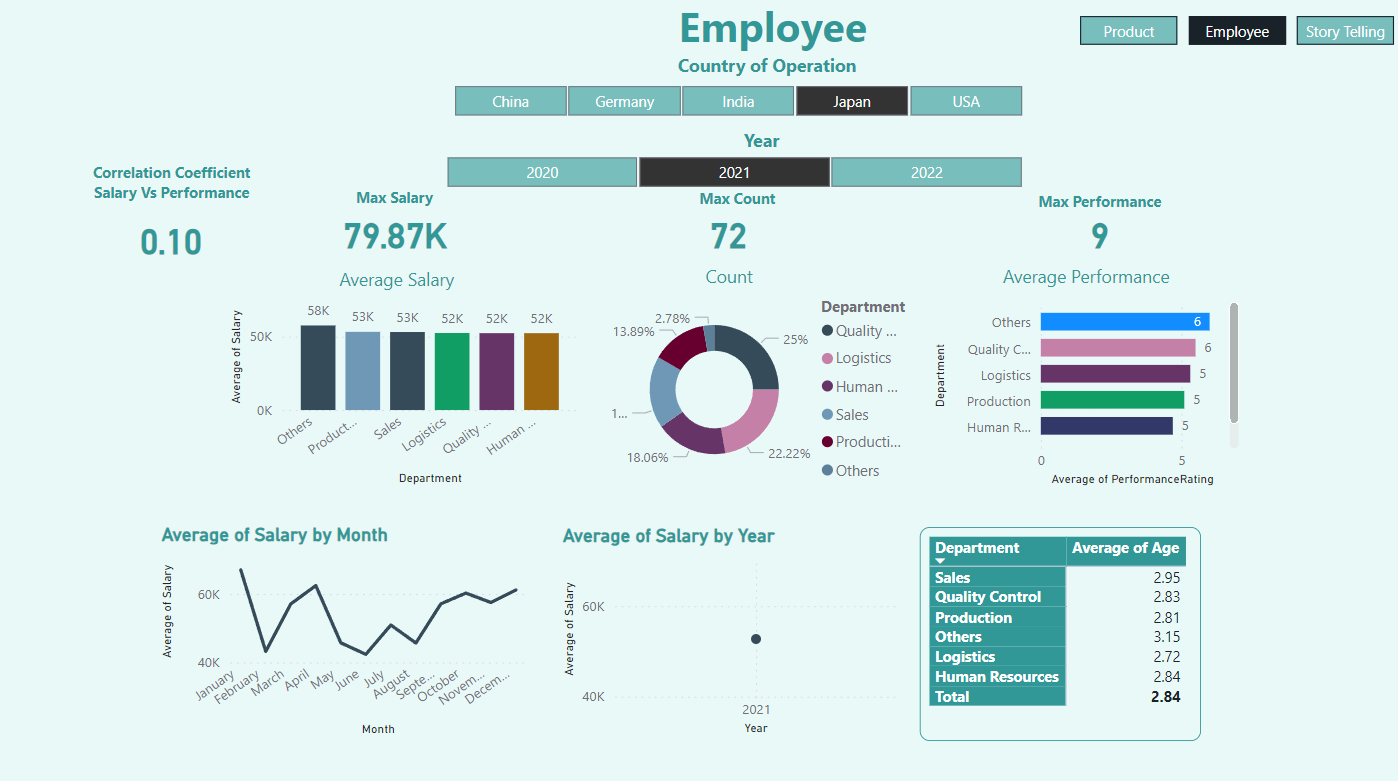

What the dashboard file says about the page in this screenshot:
{"tool":"powerbi","page":{"name":"Employee","canvas":[1280,720],"ordinal":1},"visuals":[{"type":"textbox","box":[606,117.6,191.1,38.4],"z":1000},{"type":"textbox","box":[868.1,241.4,253.4,36],"z":2000},{"type":"textbox","box":[575.2,241.4,193.3,36],"z":3000},{"type":"textbox","box":[275,242.6,193.3,36],"z":4000},{"type":"clusteredColumnChart","fields":{"Category":["Manufacturing2.Department"],"Y":["Avg(Manufacturing2.Salary)"]},"box":[216,268,324.5,183.2],"z":5000},{"type":"donutChart","fields":{"Y":["CountNonNull(Manufacturing2.EmployeeID)"],"Category":["Manufacturing2.Department"]},"box":[557.1,267.8,287,183.7],"z":6000},{"type":"clusteredBarChart","fields":{"Category":["Manufacturing2.Department"],"Y":["Avg(Manufacturing2.PerformanceRating)"]},"box":[852.5,267.8,285.8,183.7],"z":7000},{"type":"card","fields":{"Values":["Max(Manufacturing2.Salary)"]},"box":[307.4,193.3,124.9,50.4],"z":8000},{"type":"card","fields":{"Values":["CountNonNull(Manufacturing2.EmployeeID)"]},"box":[609.9,193.5,124.4,50],"z":9000},{"type":"textbox","box":[620.7,49.7,191.1,38.4],"z":10000},{"type":"card","fields":{"Values":["Max(Manufacturing2.PerformanceRating)"]},"box":[936.2,193.3,142.5,50.9],"z":11000},{"type":"lineChart","title":"Average of Salary by Month","fields":{"Category":["Manufacturing2.HireDate.Variation.Date Hierarchy.Month"],"Y":["Avg(Manufacturing2.Salary)"]},"box":[153.7,480.3,339.8,196.9],"z":12000},{"type":"lineChart","title":"Average of  Salary  by Year","fields":{"Category":["Manufacturing2.HireDate.Variation.Date Hierarchy.Year"],"Y":["Avg(Manufacturing2.Salary)"]},"box":[516.3,481.5,312.2,195.7],"z":13000},{"type":"pivotTable","fields":{"Rows":["Manufacturing2.Department"],"Values":["Avg(Employee Tenure.Age)"]},"box":[844.6,483.9,254.4,193.3],"z":14000},{"type":"textbox","box":[573.2,0,287.2,59.9],"z":15000},{"type":"card","fields":{"Values":["Average Production Cost by country.Salary and Sum of PerformanceRating correlation for EmployeeID"]},"box":[96.1,189.7,142.9,67.2],"z":16000},{"type":"textbox","box":[70.8,148.9,193.3,54],"z":17000},{"type":"slicer","fields":{"Values":["Manufacturing2.CountryOfOperation"]},"box":[398,78,563.1,39.6],"z":18000},{"type":"textbox","box":[288.2,171.7,162.1,30],"z":19000},{"type":"textbox","box":[600.4,172.9,158.5,30],"z":20000},{"type":"textbox","box":[930.5,175.3,153.8,29.4],"z":21000},{"type":"pageNavigator","box":[984.8,17,295.1,36.2],"z":22000},{"type":"slicer","fields":{"Values":["Manufacturing2.HireDate.Variation.Date Hierarchy.Year"]},"box":[391.2,142.5,569.9,39.6],"z":23000}]}

Visuals, with their boxes in screenshot pixels (x1, y1, x2, y2), scaled from the page's 1280x720 canvas onto the 1398x781 screenshot:
textbox: 662 128 871 169
textbox: 948 262 1225 301
textbox: 628 262 839 301
textbox: 300 263 511 302
clusteredColumnChart - Manufacturing2.Department x Avg(Manufacturing2.Salary): 236 291 590 489
donutChart - CountNonNull(Manufacturing2.EmployeeID) x Manufacturing2.Department: 608 290 922 490
clusteredBarChart - Manufacturing2.Department x Avg(Manufacturing2.PerformanceRating): 931 290 1243 490
card - Max(Manufacturing2.Salary): 336 210 472 264
card - CountNonNull(Manufacturing2.EmployeeID): 666 210 802 264
textbox: 678 54 887 96
card - Max(Manufacturing2.PerformanceRating): 1023 210 1178 265
"Average of Salary by Month" lineChart: 168 521 539 735
"Average of  Salary  by Year" lineChart: 564 522 905 735
pivotTable - Manufacturing2.Department x Avg(Employee Tenure.Age): 922 525 1200 735
textbox: 626 0 940 65
card - Average Production Cost by country.Salary and Sum of PerformanceRating correlation for EmployeeID: 105 206 261 279
textbox: 77 162 288 220
slicer - Manufacturing2.CountryOfOperation: 435 85 1050 128
textbox: 315 186 492 219
textbox: 656 188 829 220
textbox: 1016 190 1184 222
pageNavigator: 1076 18 1397 58
slicer - Manufacturing2.HireDate.Variation.Date Hierarchy.Year: 427 155 1050 198
